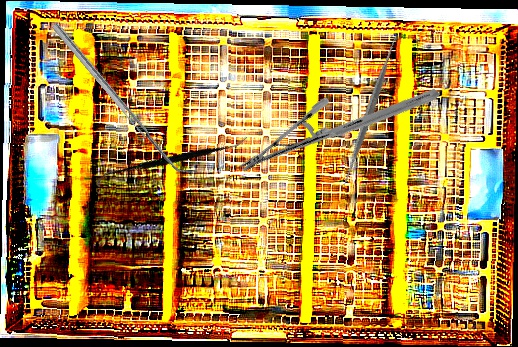Needle Holder: (239, 25, 440, 236)
Spatula Surgical: (95, 83, 248, 239), (51, 17, 194, 183), (294, 35, 445, 188)
